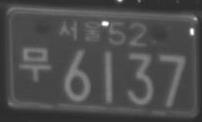1: (96, 48, 123, 105)
2: (127, 20, 150, 48)
3: (126, 50, 154, 106)
5: (106, 19, 127, 47)
6: (62, 47, 92, 103)
7: (156, 52, 188, 109)
무: (18, 45, 53, 82)
서울_O: (57, 17, 102, 44)
